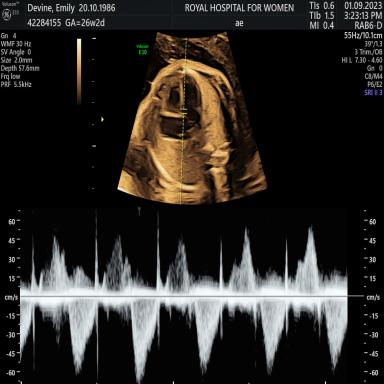Ultrasound-Waves: (26, 208, 348, 384)
